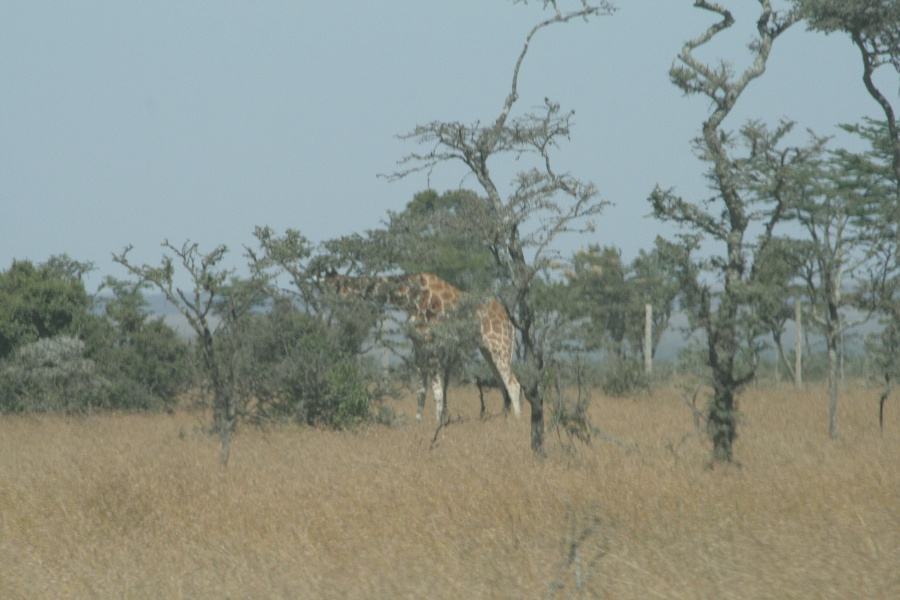giraffe: (304, 252, 533, 428)
